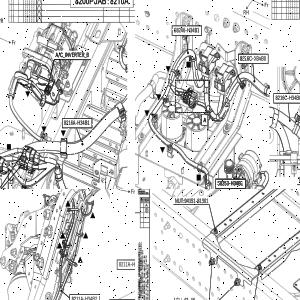PartNumber: (174, 26, 200, 34), (240, 55, 266, 62), (217, 180, 243, 187), (184, 197, 209, 204), (63, 120, 90, 126), (275, 94, 300, 100), (71, 295, 97, 300), (118, 260, 135, 267)
